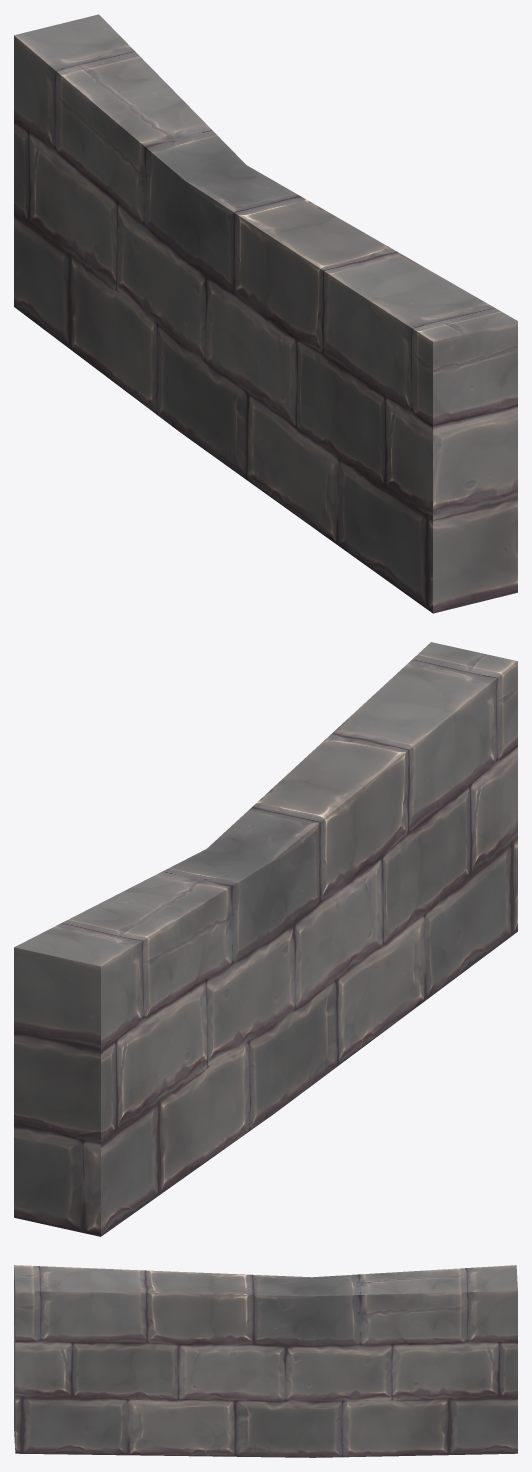
File: SM_PROP_wall_stone_small_01.fbx
The picture shows the model from 3 angles, top to bottom: view 1: azimuth 30°, elevation 25°; view 2: azimuth 150°, elevation 25°; view 3: azimuth 270°, elevation 25°; orthographic projection. The views are drawn at different scales.
Parts seen in each view (by area): view 1: SM_PROP_wall_stone_small_01; view 2: SM_PROP_wall_stone_small_01; view 3: SM_PROP_wall_stone_small_01.
Boxes of the visible parts, <box> form: SM_PROP_wall_stone_small_01: <box>14,14,517,613</box>; SM_PROP_wall_stone_small_01: <box>14,642,517,1236</box>; SM_PROP_wall_stone_small_01: <box>14,1265,517,1457</box>.
Size of the model in its own units: 42.62 by 107 by 298.
